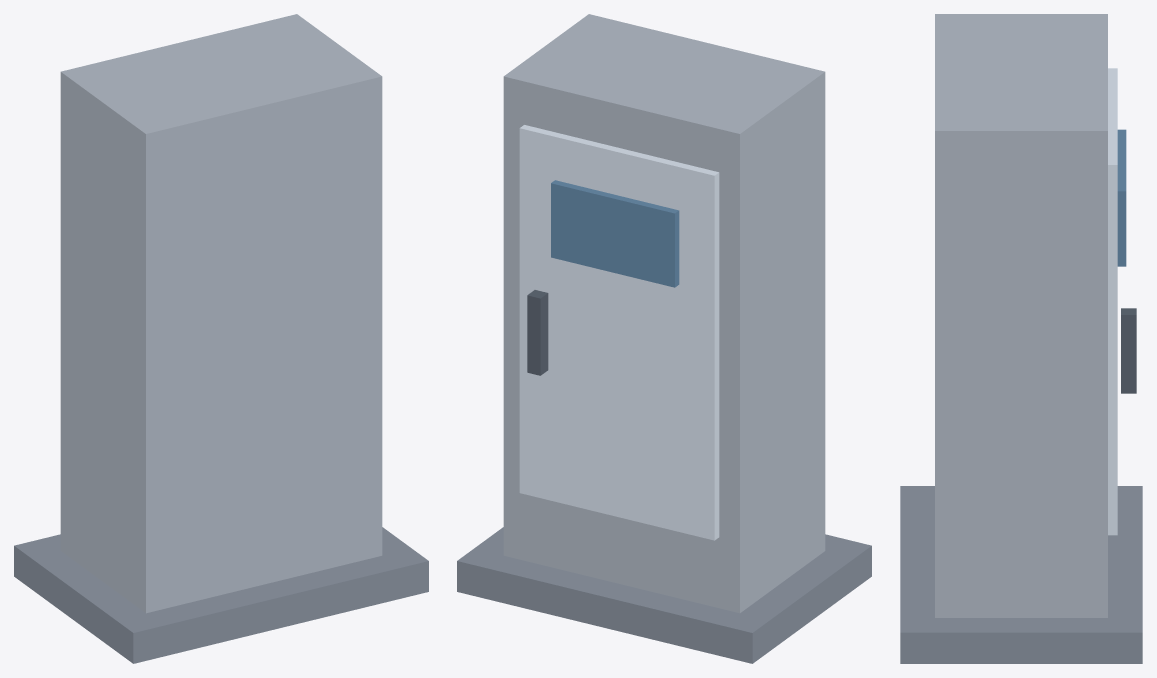
Rendered from tu-dieu-khien.gltf.
3 views of the same model, side by side, from view 1: azimuth 30°, elevation 25°; view 2: azimuth 150°, elevation 25°; view 3: azimuth 270°, elevation 25° (orthographic).
Visible parts, largest first — view 1: cabinetBody, base; view 2: cabinetBody, cabinetDoor, base, display, handle; view 3: cabinetBody, base, cabinetDoor, display, handle.
Part boxes in pixels (<box>): cabinetBody: <box>60,14,382,613</box>; base: <box>14,527,428,663</box>; cabinetBody: <box>503,14,825,613</box>; cabinetDoor: <box>519,125,719,540</box>; base: <box>457,527,871,663</box>; display: <box>551,180,679,287</box>; handle: <box>527,290,548,375</box>; cabinetBody: <box>935,14,1107,617</box>; base: <box>900,486,1142,663</box>; cabinetDoor: <box>1108,68,1117,535</box>; display: <box>1117,129,1126,266</box>; handle: <box>1121,308,1136,393</box>.
Size of the model in its own units: 1 by 1.65 by 0.7.
